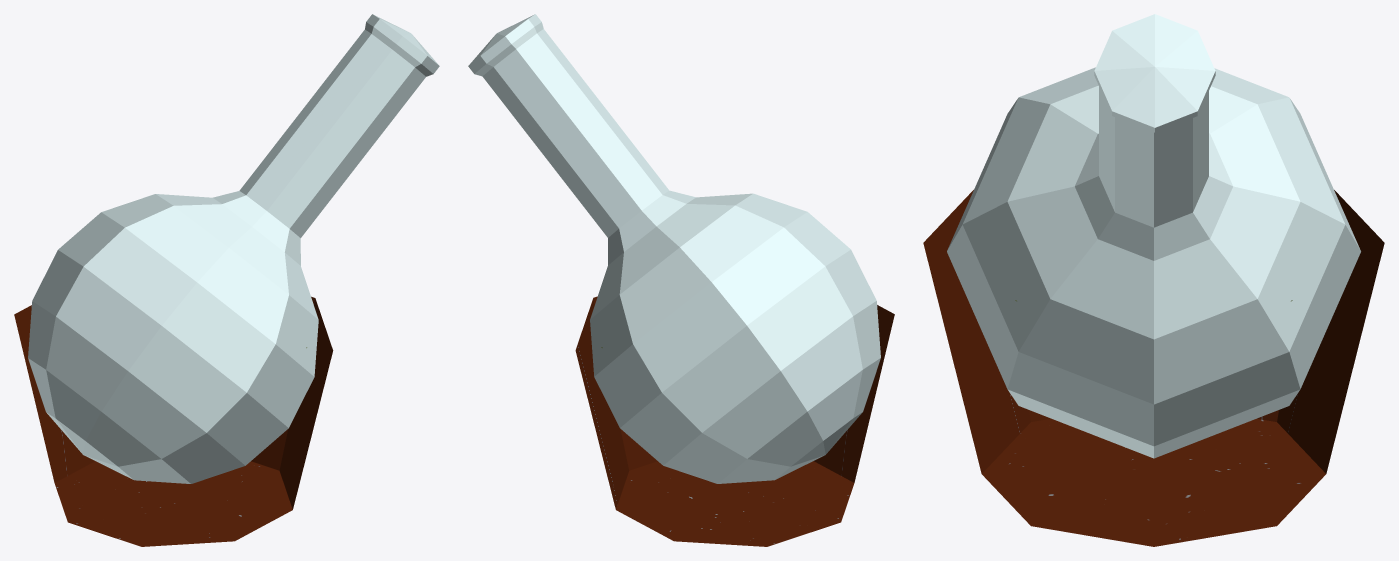
Rendered from MagicPlanter.fbx.
The picture shows the model from 3 angles, left to right: view 1: azimuth 30°, elevation 25°; view 2: azimuth 150°, elevation 25°; view 3: azimuth 270°, elevation 25°; orthographic projection. The views are drawn at different scales.
Visible parts, largest first — view 1: 平面.001; view 2: 平面.001; view 3: 平面.001.
Boxes of the visible parts, x1,y1,x2,y2 form: 平面.001: (14,14,439,546); 平面.001: (468,14,894,546); 平面.001: (923,14,1384,546).
Bounding box in the file's own units: 396 × 403 × 280.
